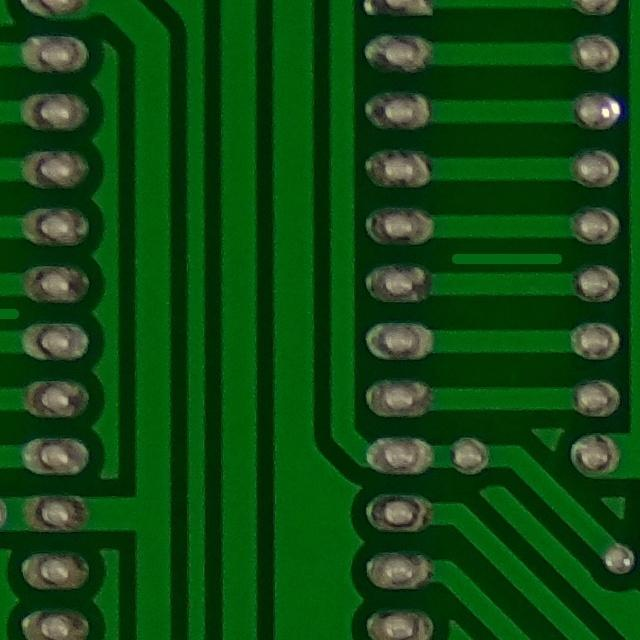spurious_copper: (444, 239, 572, 278)
